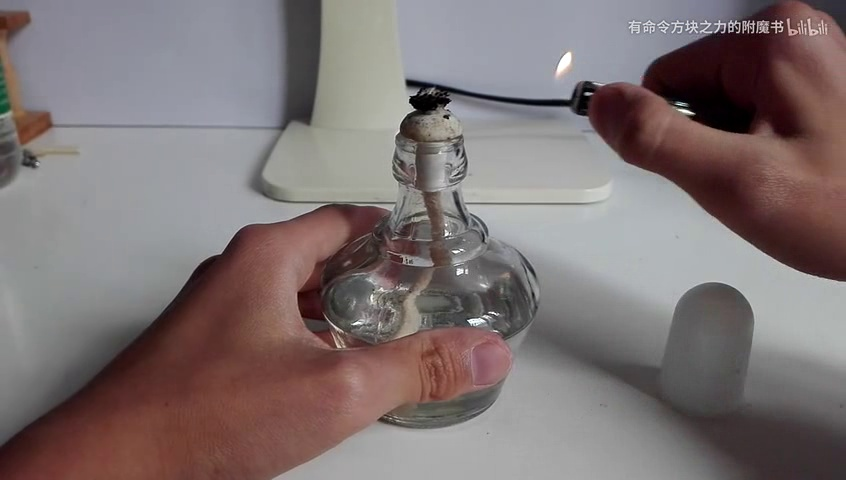fire: (545, 49, 587, 107)
